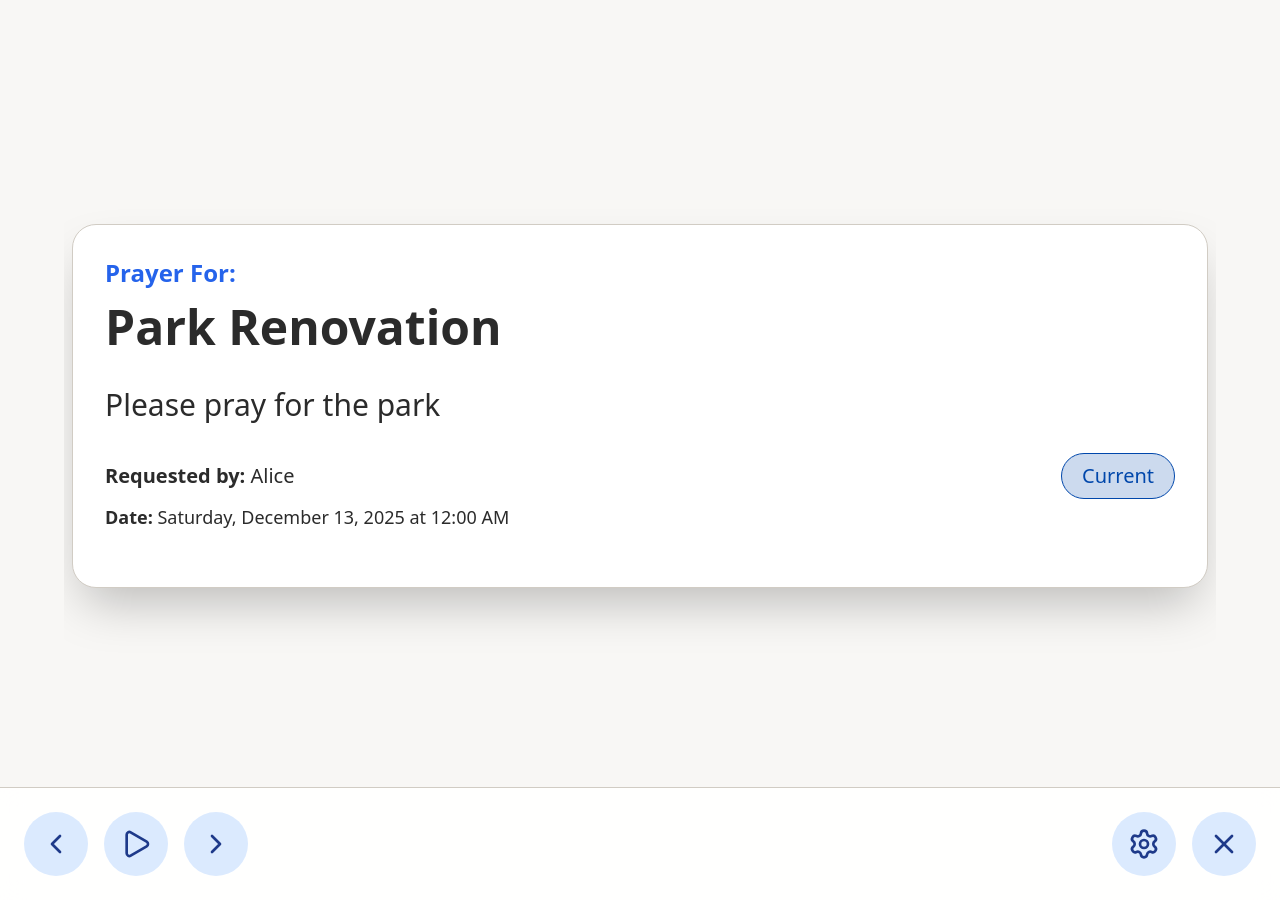
PrayerPresentation › Navigation › navigates to previous prayer
Expected: the text "Park Renovation" is shown, x1=105 y1=294 x2=502 y2=359
Go to next prayer first
What coordinates should you click on to do the following:
click the button titled "Next Prayer"
I would click on:
 (216, 844)
Its box is x1=184 y1=812 x2=248 y2=876.
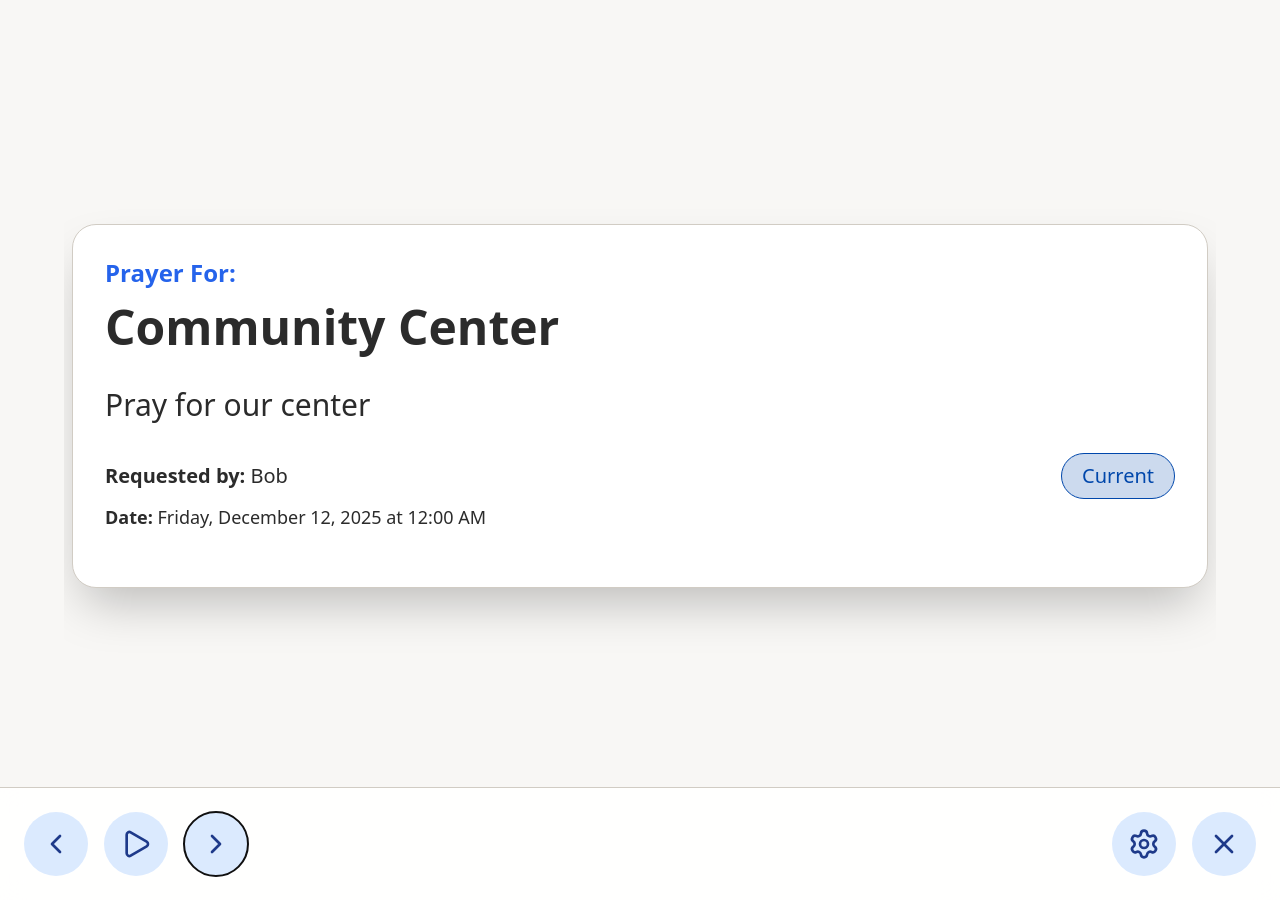
Expected: the text "Community Center" is shown, x1=105 y1=294 x2=559 y2=359
Now go back to previous
What coordinates should you click on to do the following:
click the button titled "Previous Prayer"
I would click on:
 (56, 844)
Its box is x1=24 y1=812 x2=88 y2=876.
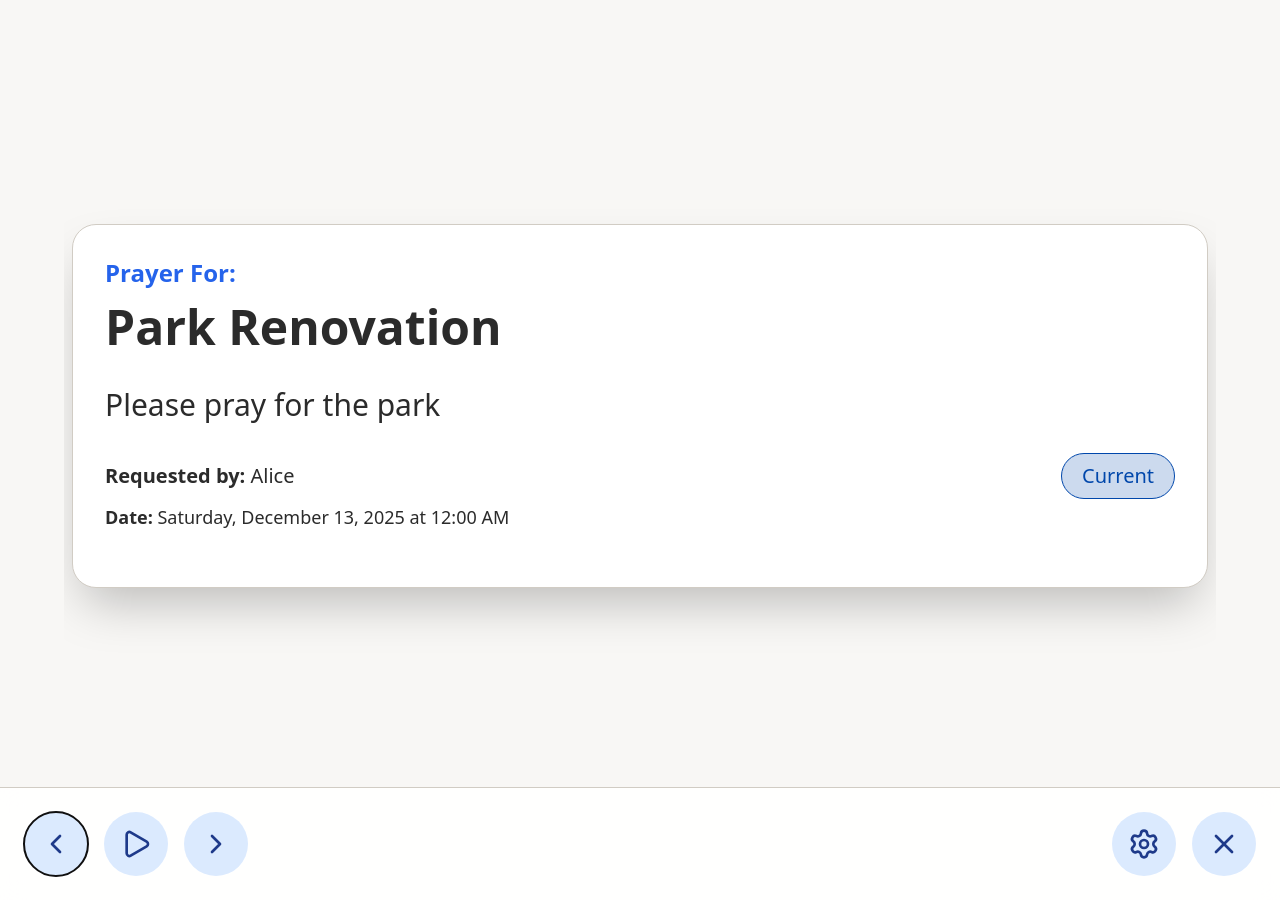
Expected: the text "Park Renovation" is shown, x1=105 y1=294 x2=502 y2=359
